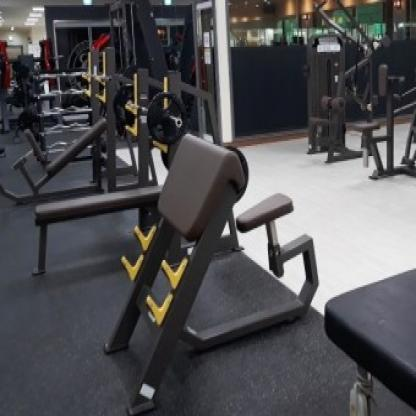arm curl machine: (101, 132, 320, 416)
